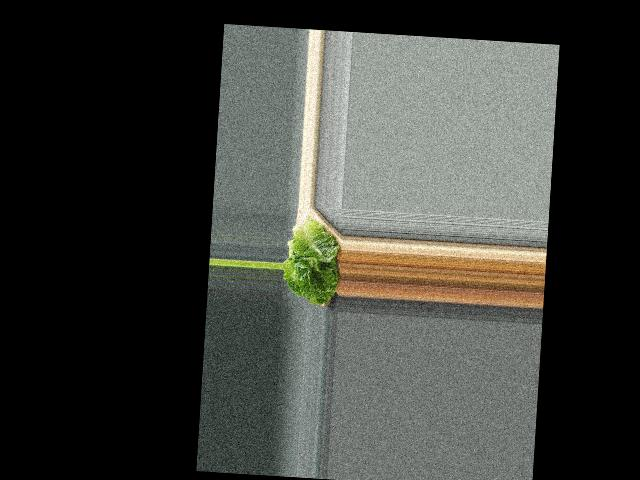lettuce: (281, 217, 344, 308)
